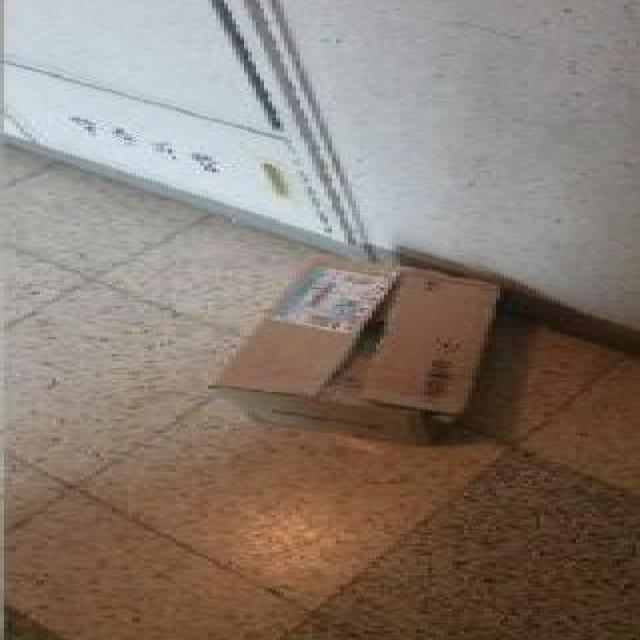damaged: (396, 404, 464, 430)
